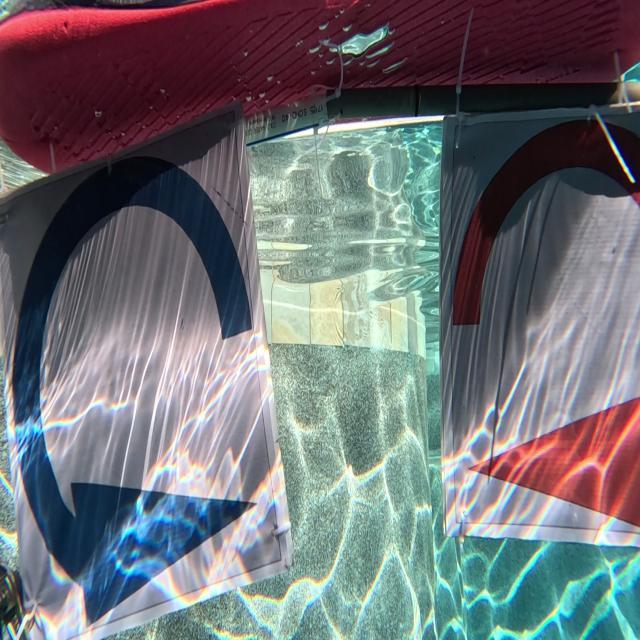blue_side: (17, 162, 285, 617)
red_side: (452, 118, 640, 530)
